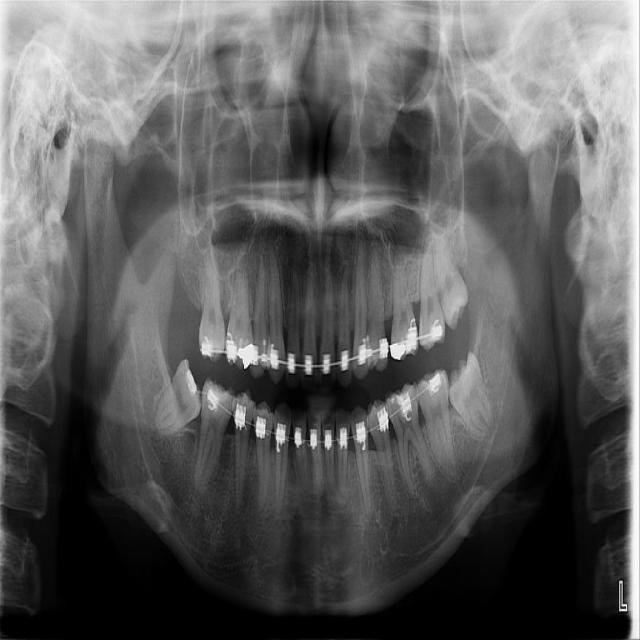52: (225, 320, 256, 370)
73: (622, 615, 628, 620)
BioHorizons Implant: (420, 231, 446, 352)
BioLife Implant: (424, 225, 476, 331)
Biomet 3i Implant: (438, 348, 500, 447)
Blue Sky Bio Implant: (414, 367, 458, 477)
Caries: (197, 243, 226, 361)
Implant: (146, 357, 219, 445)
